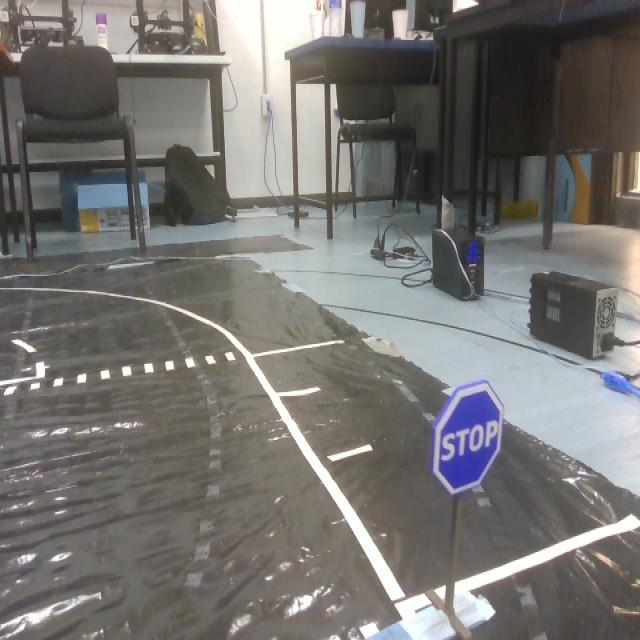no_entry: (432, 380, 510, 496)
